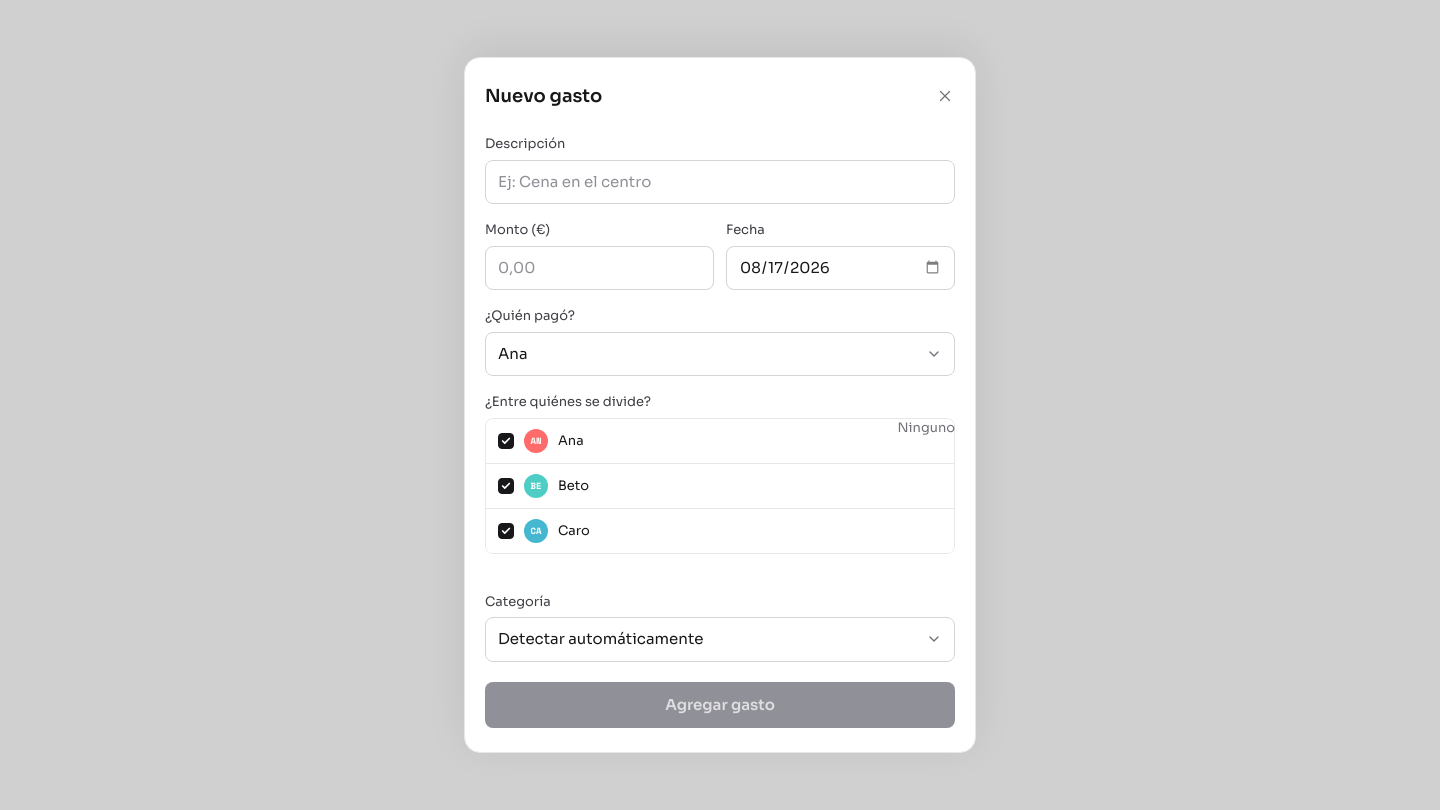
it: ExpenseSheet › deja guardar sólo cuando el formulario está completo
The width and height of the screenshot is (1440, 810).
Expected: the button "Agregar gasto" is disabled, x1=485 y1=682 x2=955 y2=728
Type "Cena" into the field labelled "Descripción".
click(720, 182); type("Cena")  # box x1=485 y1=160 x2=955 y2=204
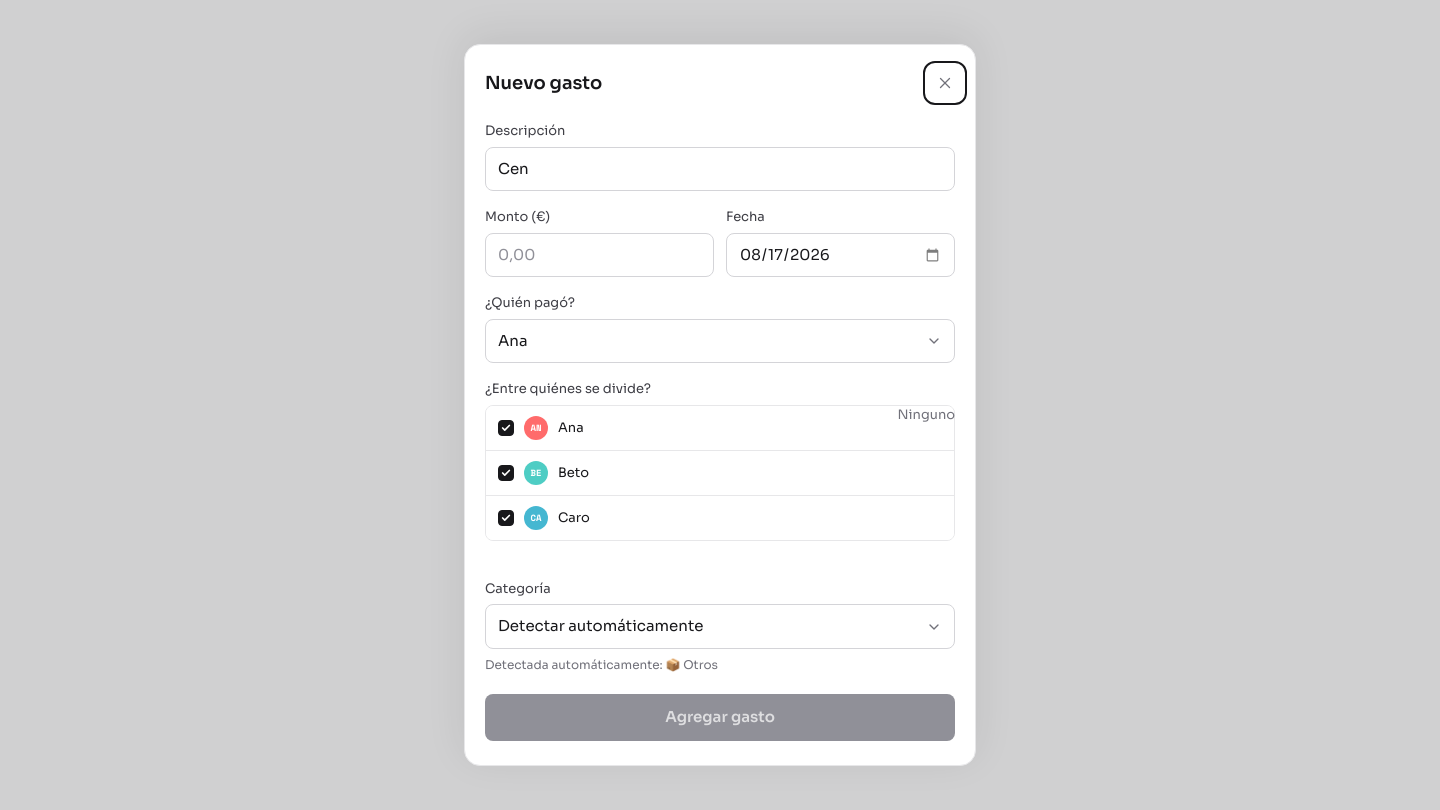
Expected: the button "Agregar gasto" is disabled, x1=485 y1=694 x2=955 y2=741
Type "30" into the field labelled "Monto (€)".
click(600, 255); type("30")  # box x1=485 y1=233 x2=714 y2=277
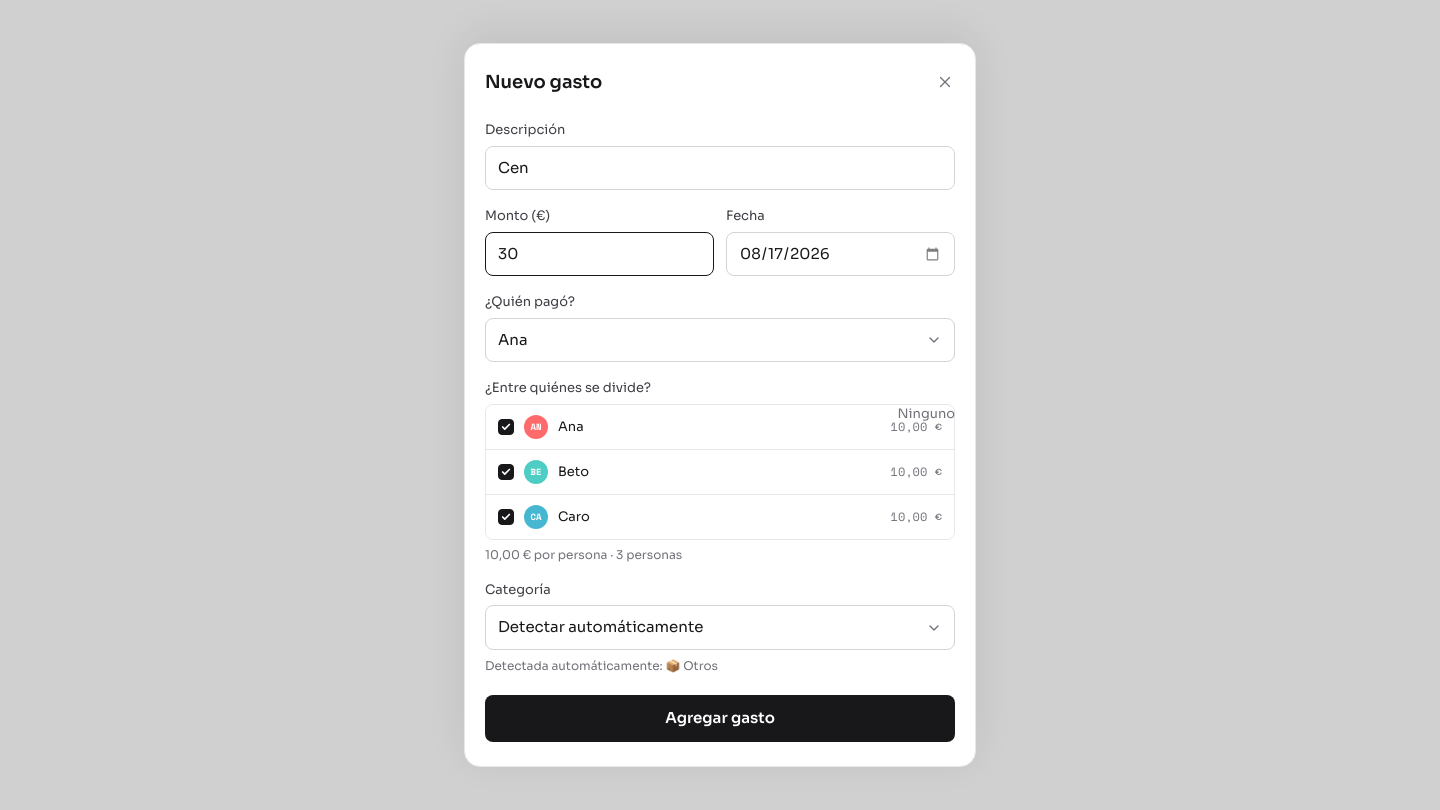
Expected: the button "Agregar gasto" is enabled, x1=485 y1=695 x2=955 y2=742
